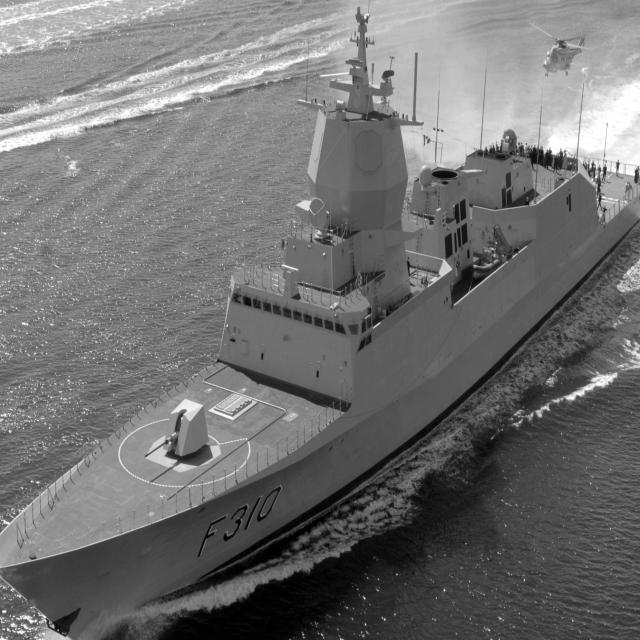Fragata: (1, 1, 452, 640)
